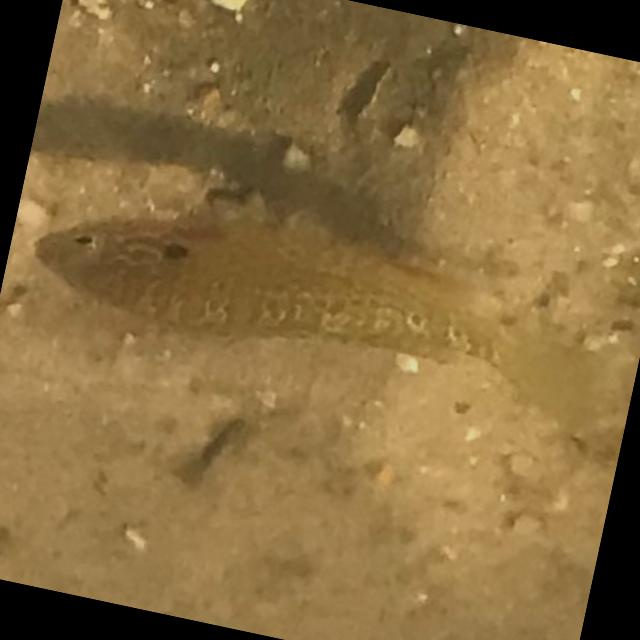Gunes Levregi: (9, 134, 638, 457)
